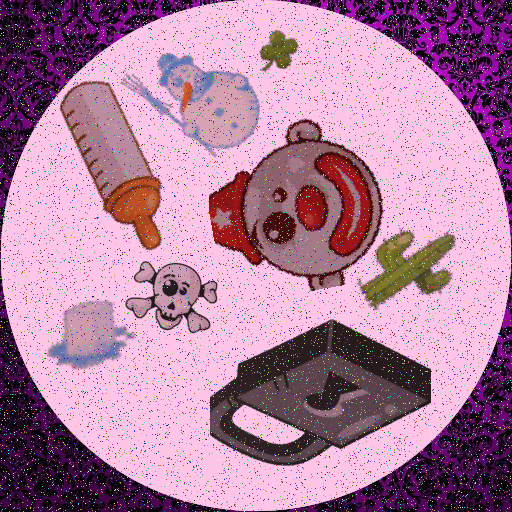bottle_icon: (22, 72, 209, 259)
cactus_icon: (348, 209, 464, 325)
cloverleaf_icon: (251, 26, 299, 74)
clown_icon: (209, 115, 386, 292)
cube_icon: (40, 282, 137, 379)
lock_icon: (210, 289, 431, 510)
skull_icon: (124, 244, 228, 348)
snowman_icon: (119, 32, 260, 173)
